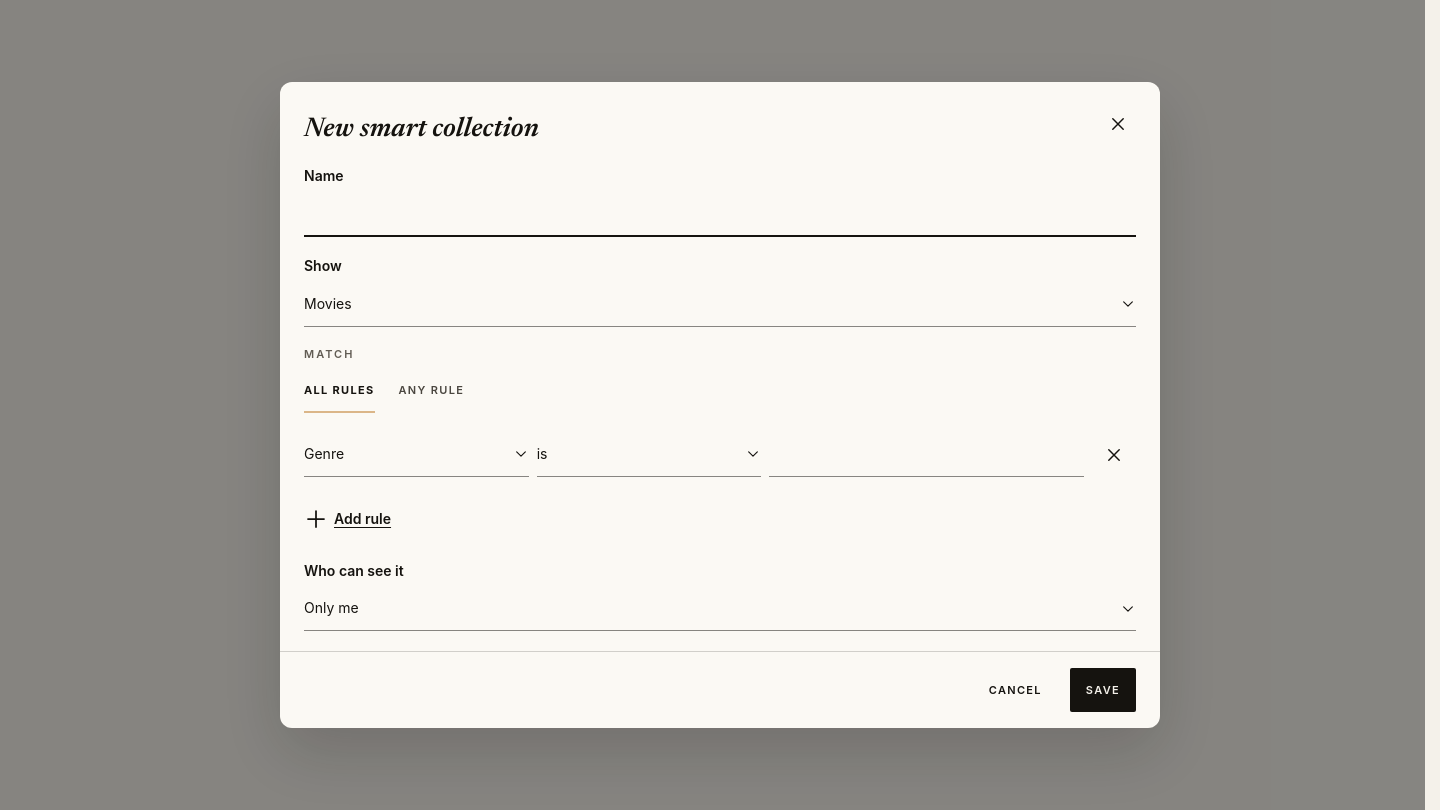
Smart collection builder › says so when nothing matches
Type "Drama" into the field named "Value 1" at (927, 455), box [769,433,1084,477]
Wait 300 ms
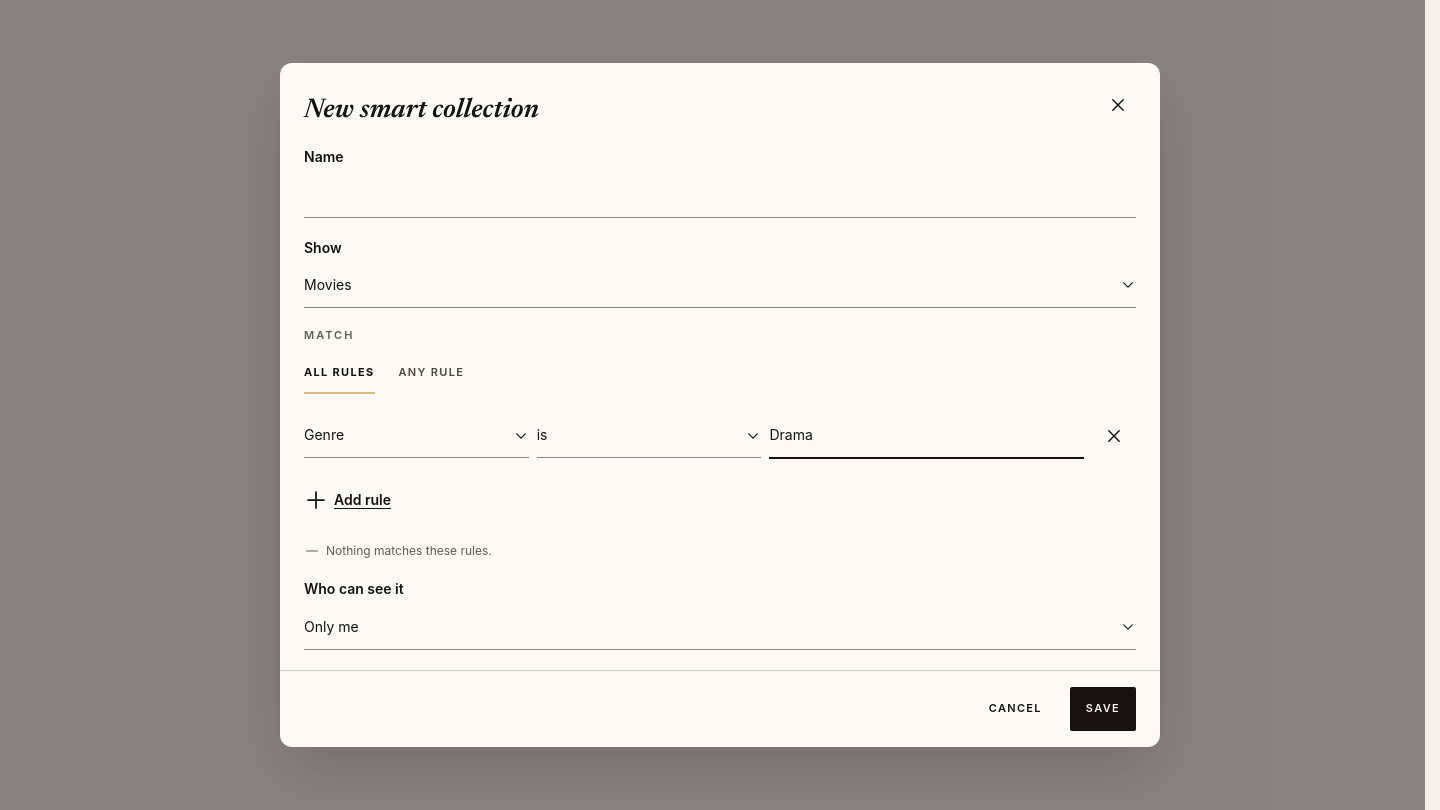
expect the text "Nothing matches these rules." is shown: met, box [326,542,492,560]
